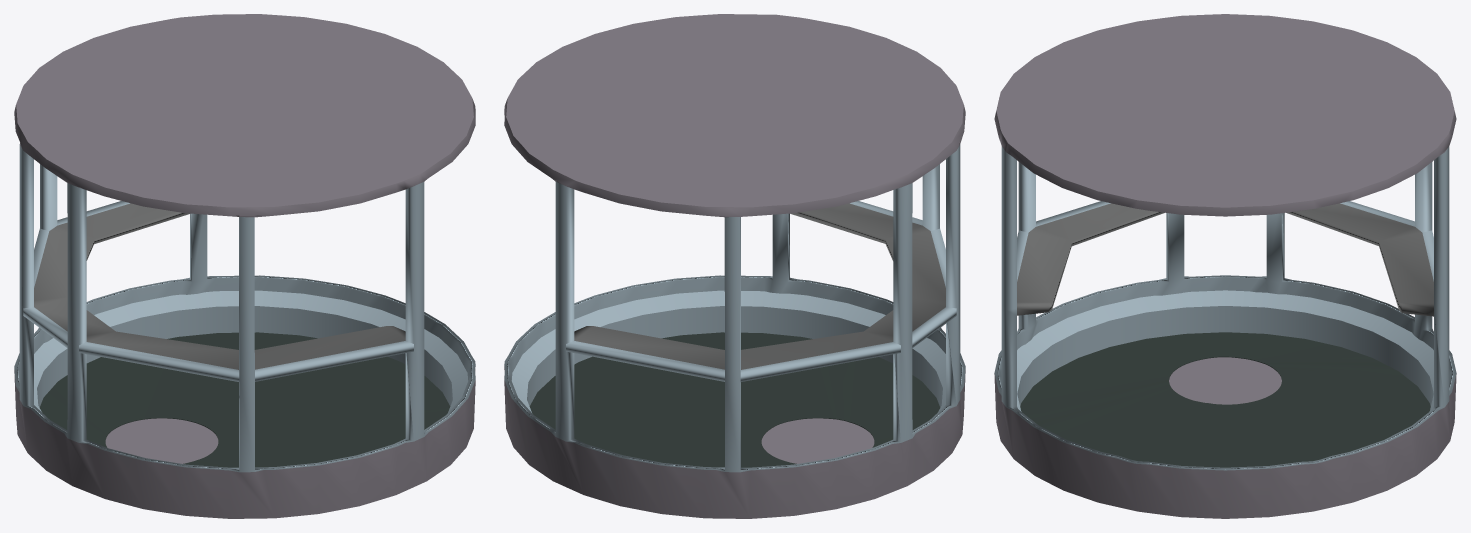
Rendered from room.fbx.
3 views of the same model, side by side, from view 1: azimuth 30°, elevation 25°; view 2: azimuth 150°, elevation 25°; view 3: azimuth 270°, elevation 25° (orthographic).
Visible parts, largest first — view 1: room; view 2: room; view 3: room.
Boxes of the visible parts, box(x1,y1,x2,y2) form: room: box(14, 14, 475, 518); room: box(504, 14, 965, 518); room: box(994, 14, 1456, 518).
Size of the model in its own units: 412 by 306 by 412.
Materials: 1 (1 with a texture image).
